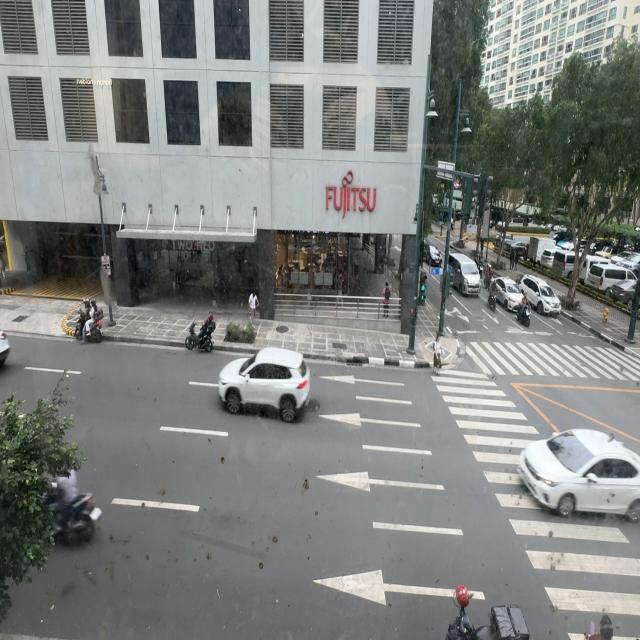crossing: (433, 333, 443, 369)
pedestrain: (249, 290, 259, 324), (382, 282, 390, 317)
